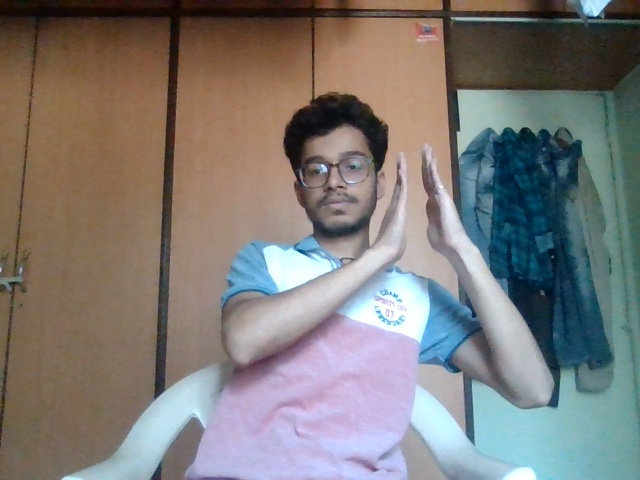morning: (379, 143, 479, 260)
